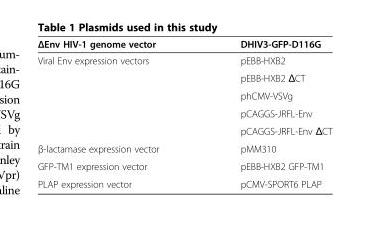table: (36, 36, 331, 189)
table column: (36, 36, 199, 189), (199, 36, 331, 189)
table column header: (36, 36, 331, 51)
table row: (36, 68, 331, 86), (36, 86, 331, 104), (36, 121, 331, 139), (36, 139, 331, 157), (36, 51, 331, 68), (36, 104, 331, 121), (36, 157, 331, 174), (36, 36, 331, 51), (36, 174, 331, 189)
table spanning cell: (36, 51, 199, 139)
